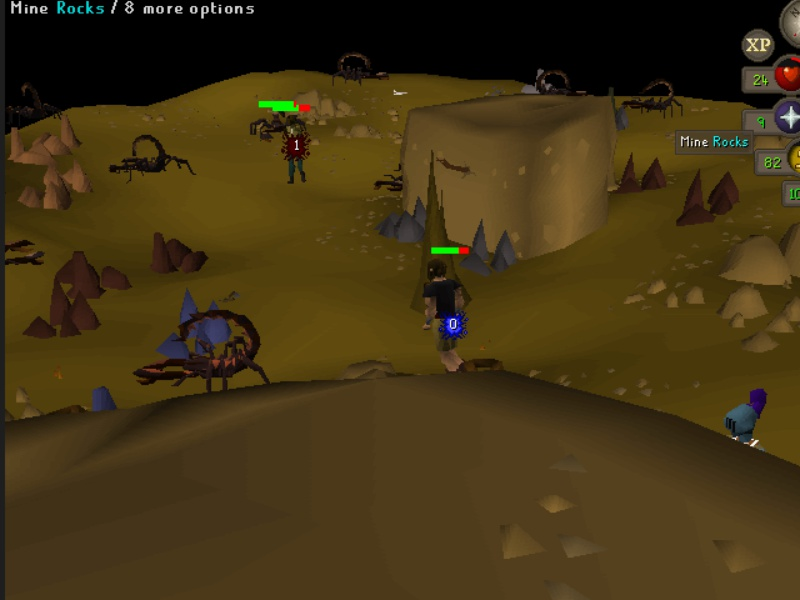copper: (15, 165, 74, 214), (32, 111, 84, 158), (7, 120, 54, 168), (43, 159, 98, 198)
iron: (20, 273, 104, 342), (673, 165, 743, 230), (52, 249, 136, 301), (148, 229, 212, 278), (611, 149, 670, 196)
mithril: (152, 283, 235, 370)
tin: (519, 66, 555, 96)
